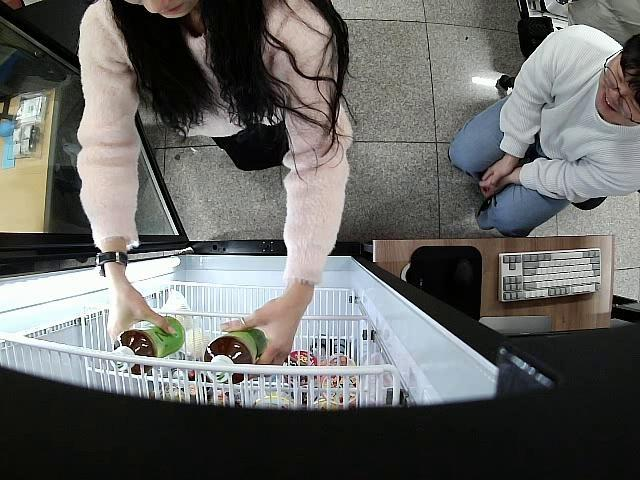19_17cha: (112, 316, 186, 380), (205, 328, 268, 385)
